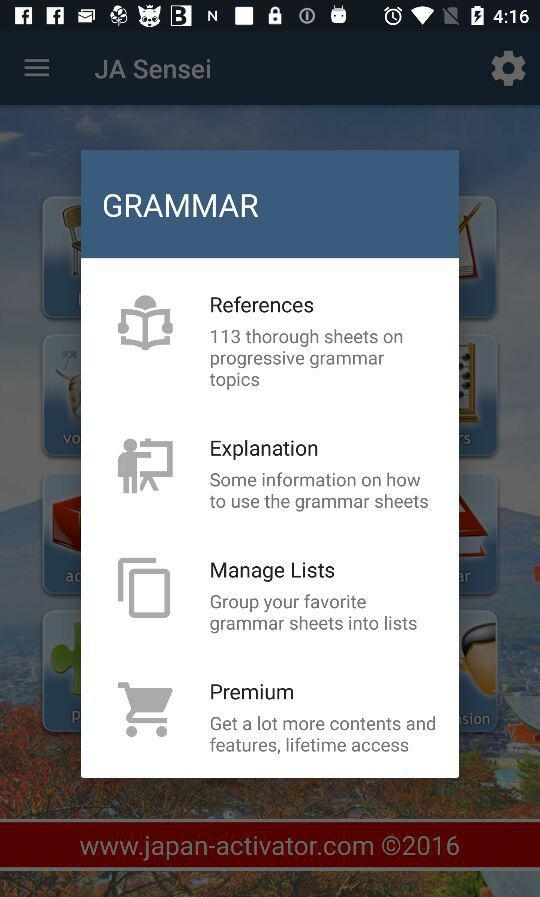Icon: (118, 558, 171, 618), (118, 682, 174, 737), (491, 51, 526, 87), (25, 60, 50, 78)
Image: (118, 295, 174, 352), (118, 439, 174, 493)
Modal: (81, 150, 460, 779)
Text: (210, 329, 403, 390), (81, 835, 460, 861), (210, 472, 428, 513), (211, 716, 436, 755), (210, 594, 417, 633), (105, 194, 258, 218), (211, 562, 335, 583), (94, 60, 211, 81), (211, 440, 318, 460), (211, 296, 314, 313), (211, 684, 294, 700)
UpperTaskBar: (1, 1, 540, 33)
